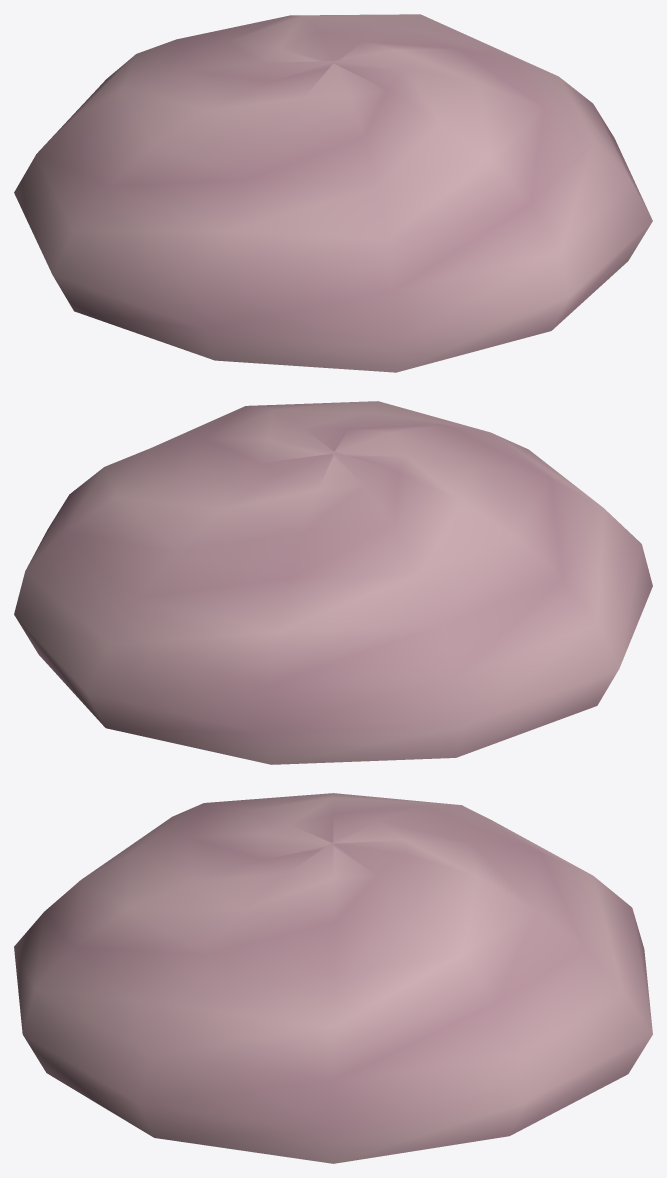
The model's file is coral_b_lod1.glb.
3 views of the same model, one above another, from view 1: azimuth 30°, elevation 25°; view 2: azimuth 150°, elevation 25°; view 3: azimuth 270°, elevation 25° (orthographic). The views are drawn at different scales.
Visible parts, largest first — view 1: coral_b_lod1; view 2: coral_b_lod1; view 3: coral_b_lod1.
Boxes of the visible parts, x1,y1,x2,y2 form: coral_b_lod1: [14, 14, 652, 372]; coral_b_lod1: [14, 401, 652, 764]; coral_b_lod1: [14, 793, 652, 1163].
Bounding box in the file's own units: 1.56 × 0.496 × 1.49.
